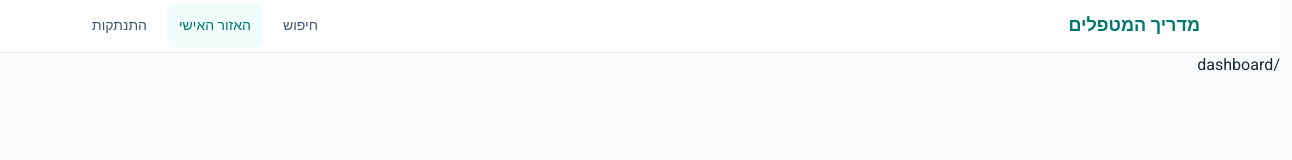
Test: Navbar › logging out ends the session and returns to the home page
Click the button "התנתקות" at (120, 26), box x1=80 y1=4 x2=159 y2=48
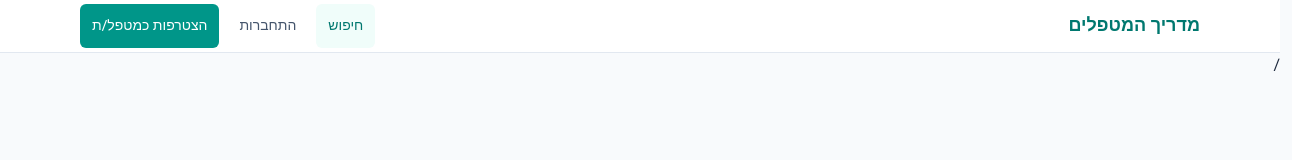
Expected: the text with test id "location" reads "/", x1=1273 y1=53 x2=1280 y2=77
Expected: the link "התחברות" is shown, x1=239 y1=15 x2=296 y2=36
